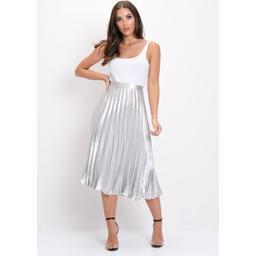Tshirt: (106, 36, 152, 86)
skirt: (82, 81, 163, 202)
